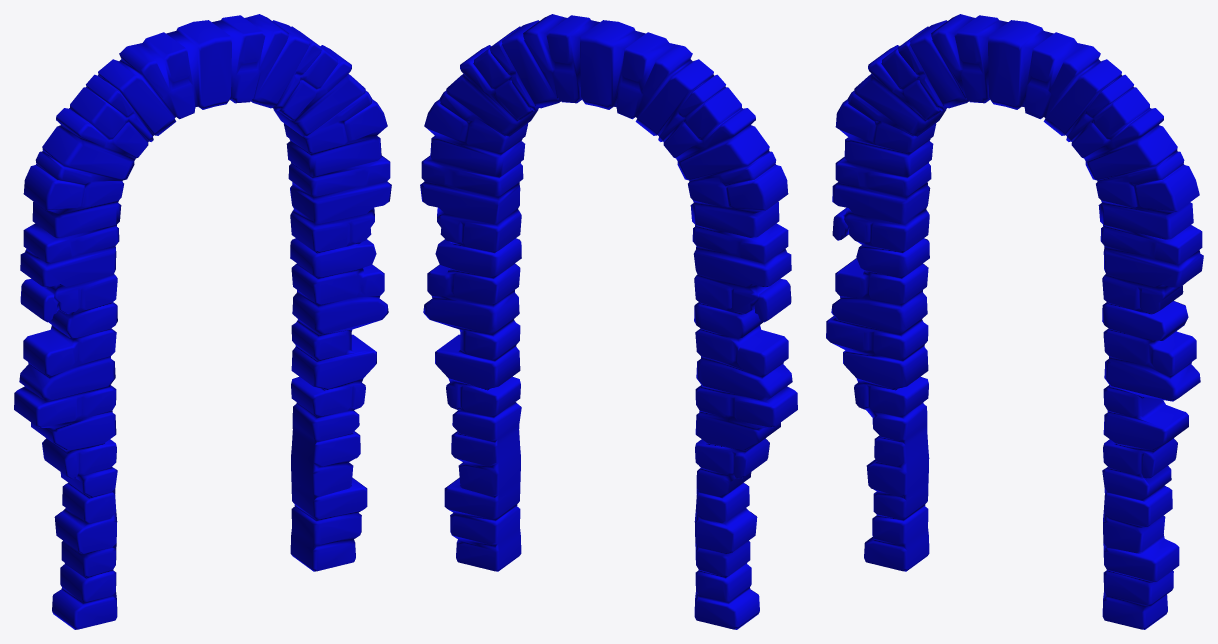
File: Door1ArchFrame2.fbx
3 views of the same model, side by side, from view 1: azimuth 30°, elevation 25°; view 2: azimuth 150°, elevation 25°; view 3: azimuth 330°, elevation 25° (orthographic).
Visible parts, largest first — view 1: Door1ArchFrame2; view 2: Door1ArchFrame2; view 3: Door1ArchFrame2.
Part boxes in pixels (x1,y1,x2,y2): Door1ArchFrame2: (14, 14, 391, 629); Door1ArchFrame2: (420, 14, 797, 629); Door1ArchFrame2: (826, 14, 1203, 629).
Bounding box in the file's own units: 199 × 298 × 23.89.
